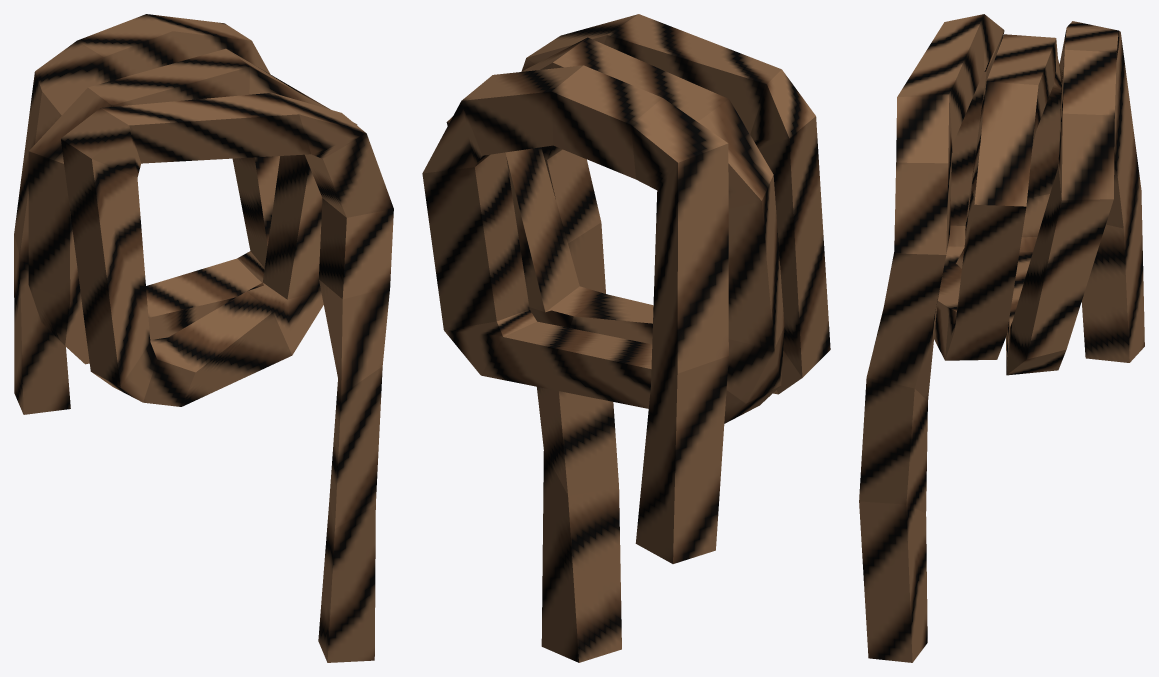
File: lina_zwinięta1.fbx
3 views of the same model, side by side, from view 1: azimuth 30°, elevation 25°; view 2: azimuth 150°, elevation 25°; view 3: azimuth 270°, elevation 25° (orthographic). The views are drawn at different scales.
Visible parts, largest first — view 1: lina zwinięta1; view 2: lina zwinięta1; view 3: lina zwinięta1.
Part boxes in pixels (x1,y1,x2,y2): lina zwinięta1: (14, 14, 393, 662); lina zwinięta1: (422, 14, 830, 662); lina zwinięta1: (859, 14, 1144, 662).
Size of the model in its own units: 50.07 by 95.41 by 44.04.
